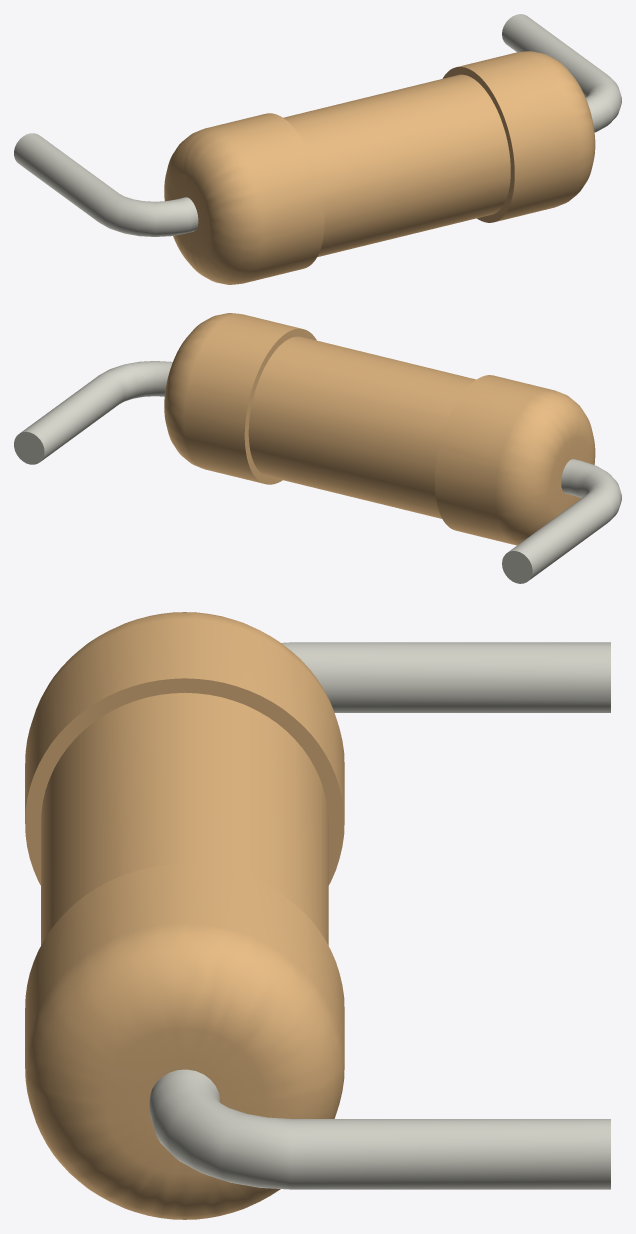
File: r-axial-din0411-l9.9-d3.6-p12.70-h.glb
3 views of the same model, one above another, from view 1: azimuth 30°, elevation 25°; view 2: azimuth 150°, elevation 25°; view 3: azimuth 270°, elevation 25° (orthographic). The views are drawn at different scales.
Visible parts, largest first — view 1: RES-THT-01, PIN-01; view 2: RES-THT-01, PIN-01; view 3: RES-THT-01, PIN-01.
Boxes of the visible parts, x1,y1,x2,y2 form: RES-THT-01: (164, 51, 595, 284); PIN-01: (14, 14, 621, 236); RES-THT-01: (164, 313, 595, 545); PIN-01: (14, 361, 621, 583); RES-THT-01: (25, 612, 344, 1219); PIN-01: (149, 642, 610, 1189).
Size of the model in its own units: 13.49 by 3.6 by 6.6.
